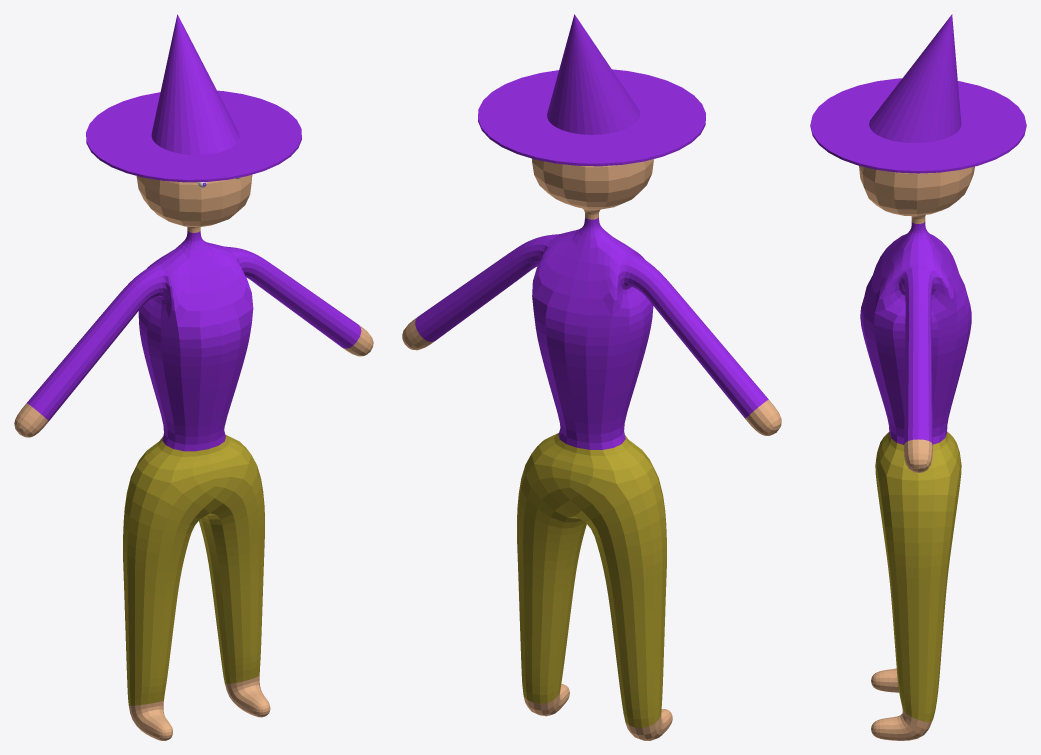
File: wizard.fbx
3 renders of one model, left to right at view 1: azimuth 30°, elevation 25°; view 2: azimuth 150°, elevation 25°; view 3: azimuth 270°, elevation 25°, orthographic. The views are drawn at different scales.
Visible parts, largest first — view 1: Plane, Cylinder, Cone; view 2: Plane, Cylinder, Cone; view 3: Plane, Cylinder, Cone.
Part boxes in pixels (x1,y1,x2,y2): Plane: (14, 175, 373, 740); Cylinder: (86, 90, 301, 182); Cone: (151, 14, 239, 154); Plane: (402, 158, 781, 740); Cylinder: (478, 69, 705, 166); Cone: (547, 14, 640, 134); Plane: (859, 166, 974, 740); Cylinder: (810, 78, 1026, 173); Cone: (869, 14, 961, 142).
Size of the model in its own units: 172 by 320 by 89.33.
